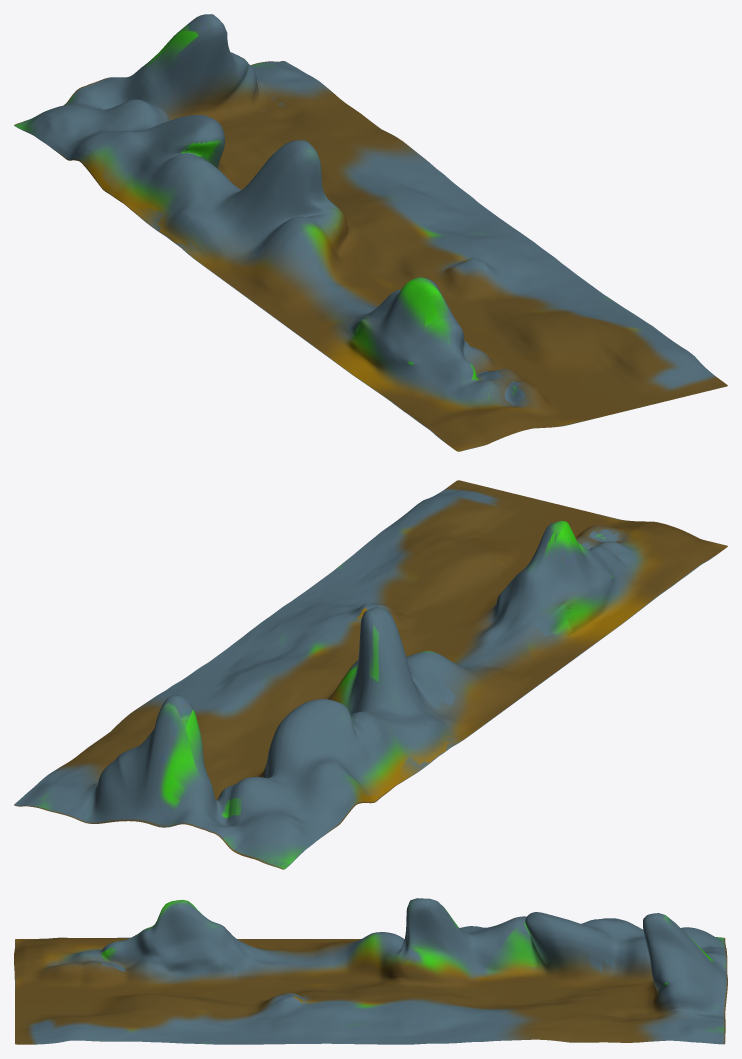
Rendered from Mountainhigh1.fbx.
3 renders of one model, top to bottom at view 1: azimuth 30°, elevation 25°; view 2: azimuth 150°, elevation 25°; view 3: azimuth 270°, elevation 25°, orthographic. The views are drawn at different scales.
Visible parts, largest first — view 1: Plane; view 2: Plane; view 3: Plane.
Part boxes in pixels (x1=…): Plane: x1=14, y1=14, x2=727, y2=451; Plane: x1=14, y1=480, x2=727, y2=869; Plane: x1=14, y1=898, x2=727, y2=1044.
Bounding box in the file's own units: 9614 × 3548 × 27185.
1 material, 1 textured.
